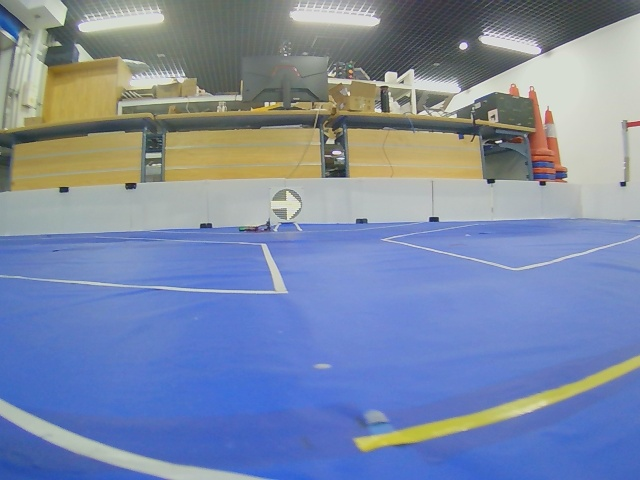right_yellow: (271, 189, 302, 221)
